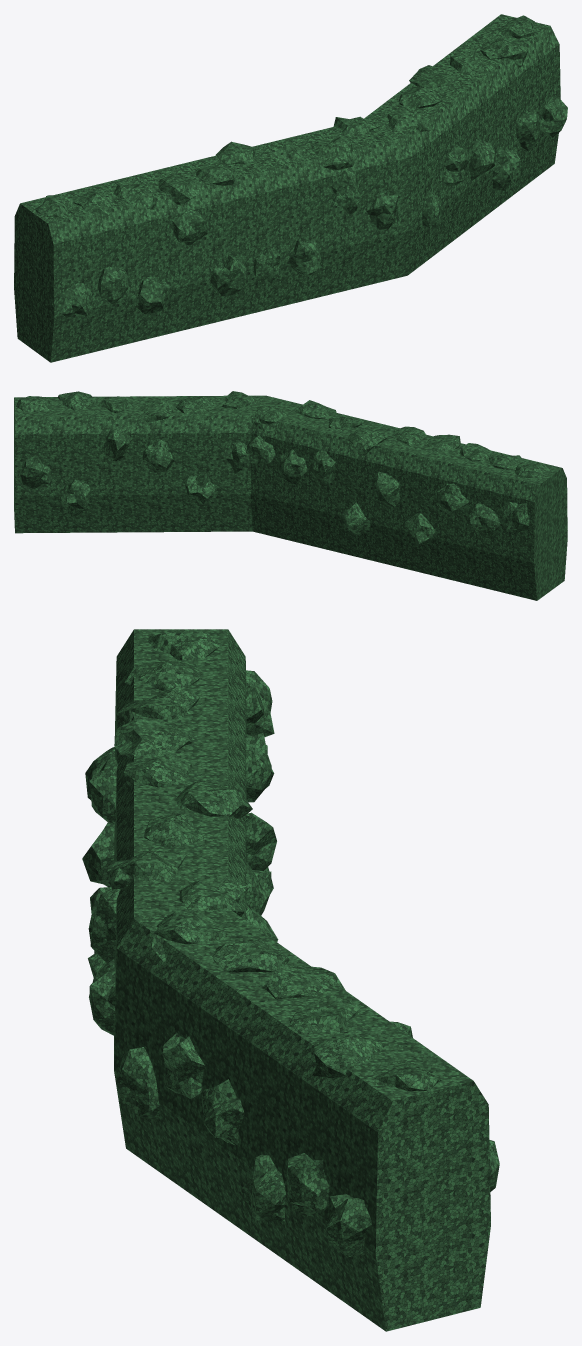
3 renders of one model, top to bottom at view 1: azimuth 30°, elevation 25°; view 2: azimuth 150°, elevation 25°; view 3: azimuth 270°, elevation 25°, orthographic. The views are drawn at different scales.
Visible parts, largest first — view 1: landscape.hedge; view 2: landscape.hedge; view 3: landscape.hedge.
Boxes of the visible parts, left/top/right/bottom form: landscape.hedge: left=14, top=14, right=567, bottom=362; landscape.hedge: left=14, top=391, right=567, bottom=600; landscape.hedge: left=82, top=629, right=499, bottom=1331.
Size of the model in its own units: 6.71 by 2.48 by 1.61.
2 materials, 2 textured.
